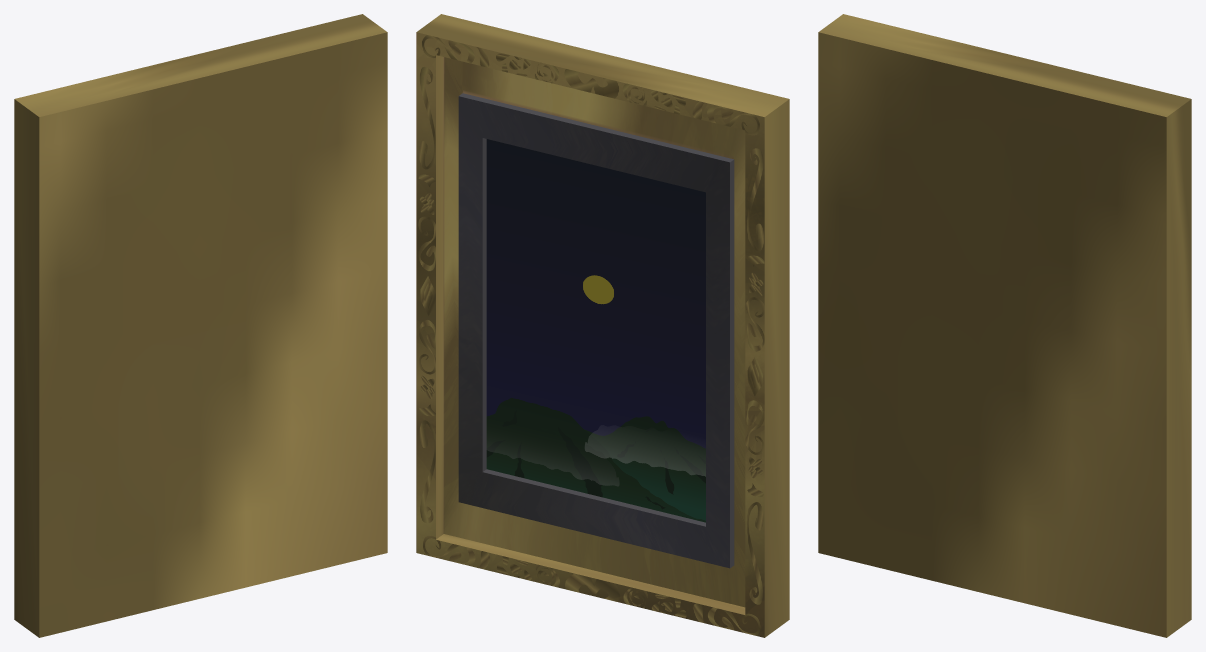
Rendered from classic picture.fbx.
The picture shows the model from 3 angles, left to right: view 1: azimuth 30°, elevation 25°; view 2: azimuth 150°, elevation 25°; view 3: azimuth 330°, elevation 25°; orthographic projection.
Parts seen in each view (by area): view 1: classic picture; view 2: classic picture; view 3: classic picture.
Boxes of the visible parts, box(x1,y1,x2,y2) form: classic picture: box(14, 14, 387, 637); classic picture: box(416, 14, 789, 637); classic picture: box(818, 14, 1191, 637).
Bounding box in the file's own units: 119 × 170 × 14.76.
Materials: 1 (1 with a texture image).
